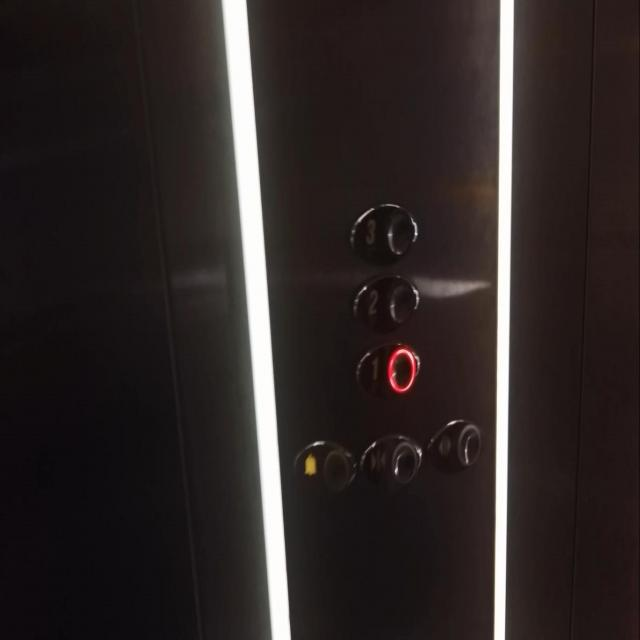1: (352, 337, 425, 400)
2: (350, 269, 422, 333)
3: (348, 201, 420, 264)
alarm: (286, 437, 359, 500)
close: (358, 428, 425, 491)
open: (424, 414, 489, 475)
